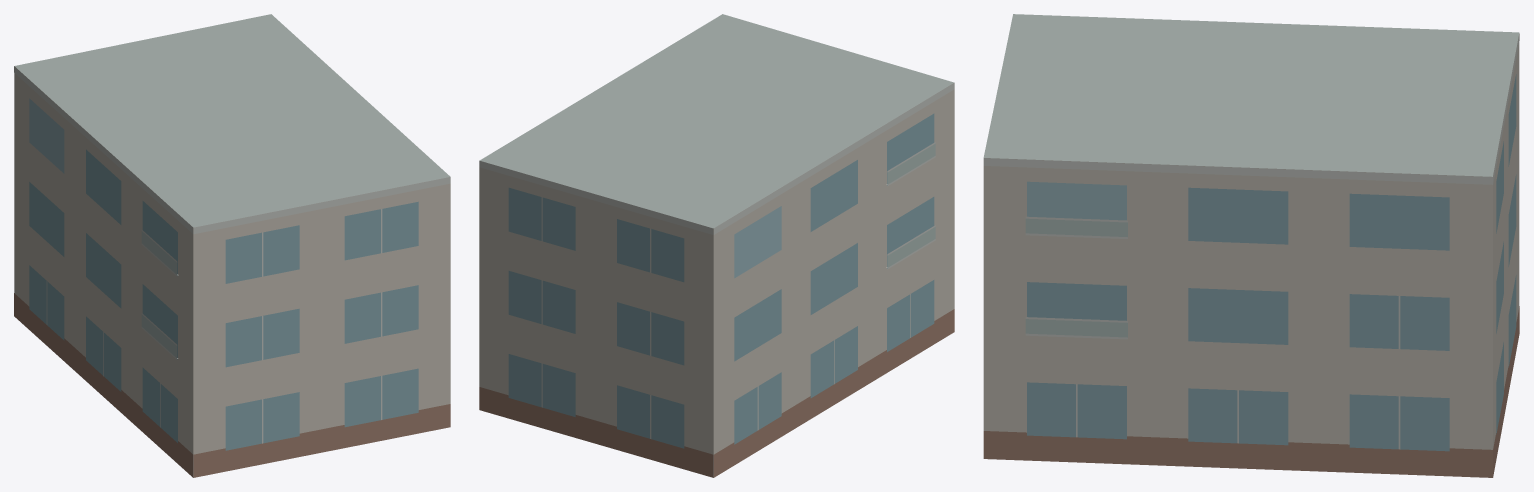
Rendered from survey-upis-32888073.glb.
3 views of the same model, side by side, from view 1: azimuth 30°, elevation 25°; view 2: azimuth 150°, elevation 25°; view 3: azimuth 270°, elevation 25° (orthographic). The views are drawn at different scales.
Parts seen in each view (by area): view 1: survey-upis-32888073.tmp; view 2: survey-upis-32888073.tmp; view 3: survey-upis-32888073.tmp.
Boxes of the visible parts, bbox=[...] form: survey-upis-32888073.tmp: bbox=[14, 14, 450, 477]; survey-upis-32888073.tmp: bbox=[479, 14, 954, 477]; survey-upis-32888073.tmp: bbox=[983, 14, 1519, 477].
Bounding box in the file's own units: 10.62 × 9.15 × 14.77.
